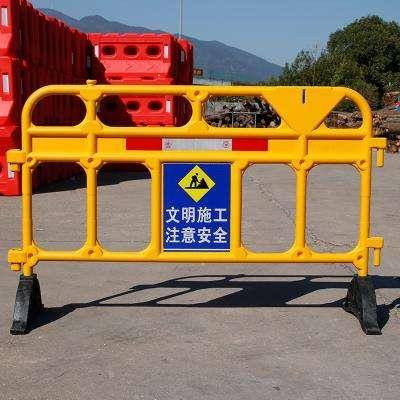sign: (5, 75, 390, 340)
